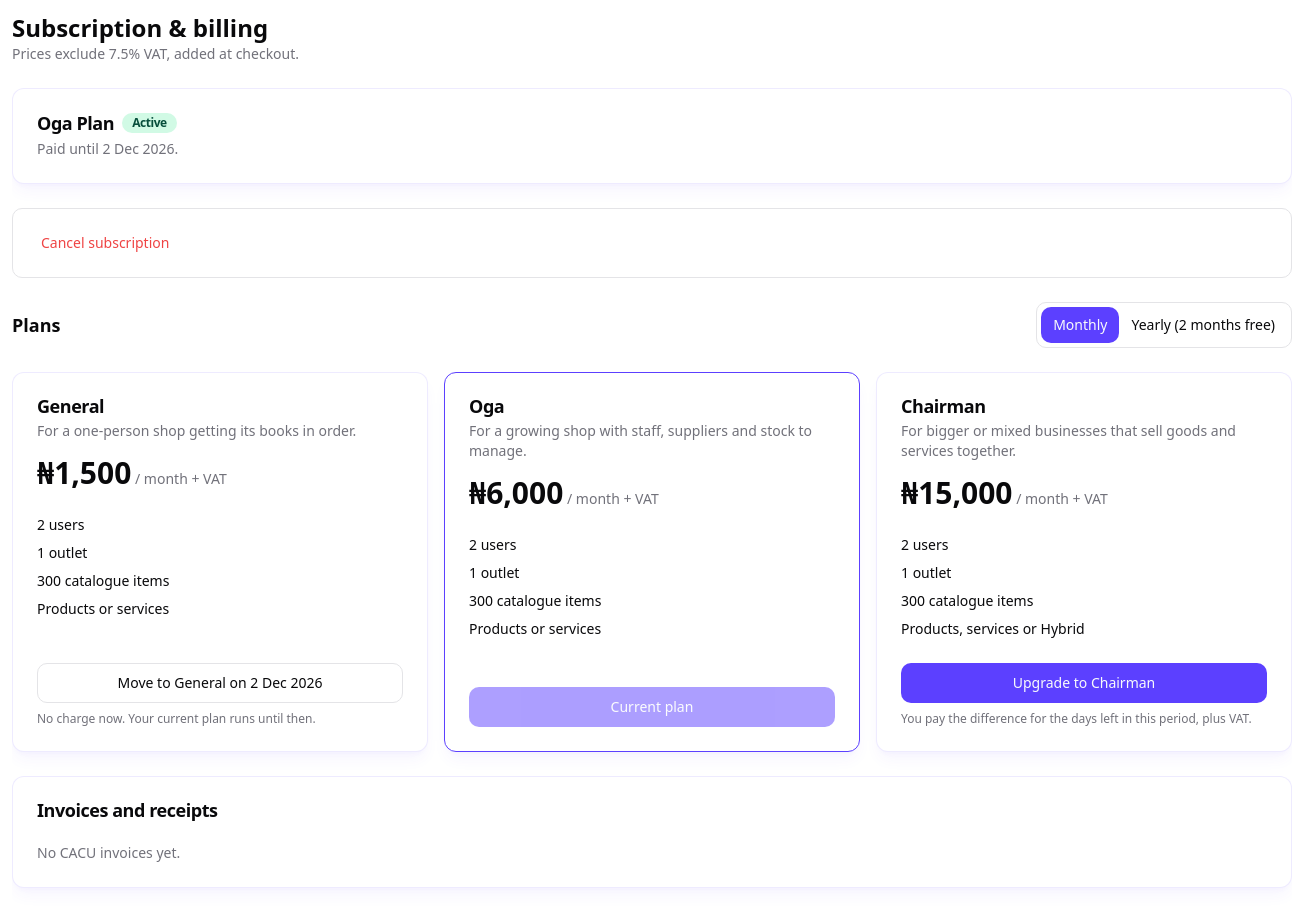
Test: an active plan offers an upgrade and schedules a smaller plan with a warning about limits
Expected: the button "Upgrade to Chairman" is enabled, [901,663,1267,703]
Expected: the text "You pay the difference for the days left in this period, plus VAT." is shown, [901,711,1267,727]
Click the button "Move to General on 2 Dec 2026". click: (220, 683)
box: [37,663,403,703]
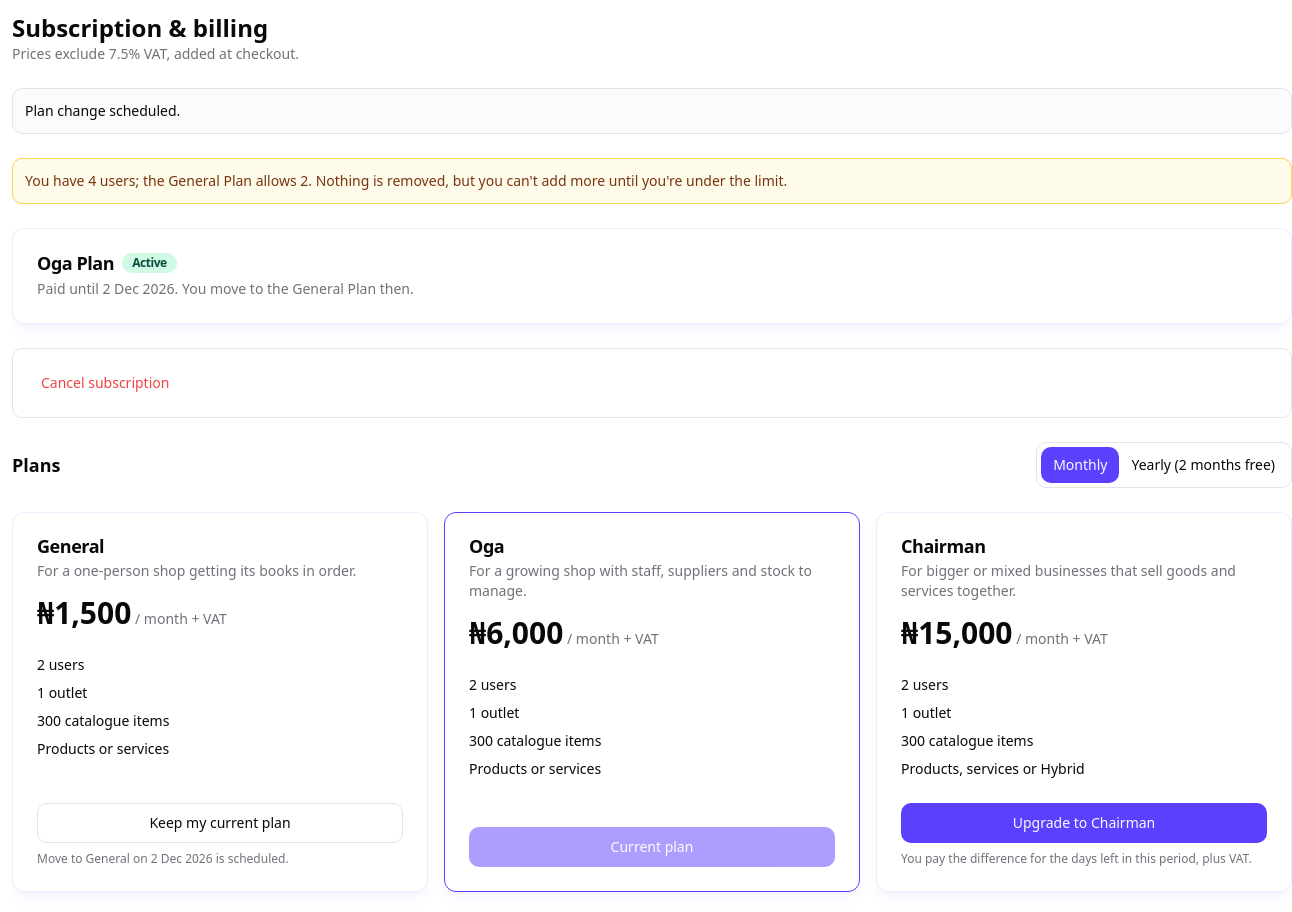
Expected: the button "Keep my current plan" is enabled, [37,803,403,843]
Expected: the text "You have 4 users; the General Plan allows 2" is shown, [25,171,787,190]
Expected: the text "Paid until 2 Dec 2026. You move to the General Plan then." is shown, [37,279,414,298]
